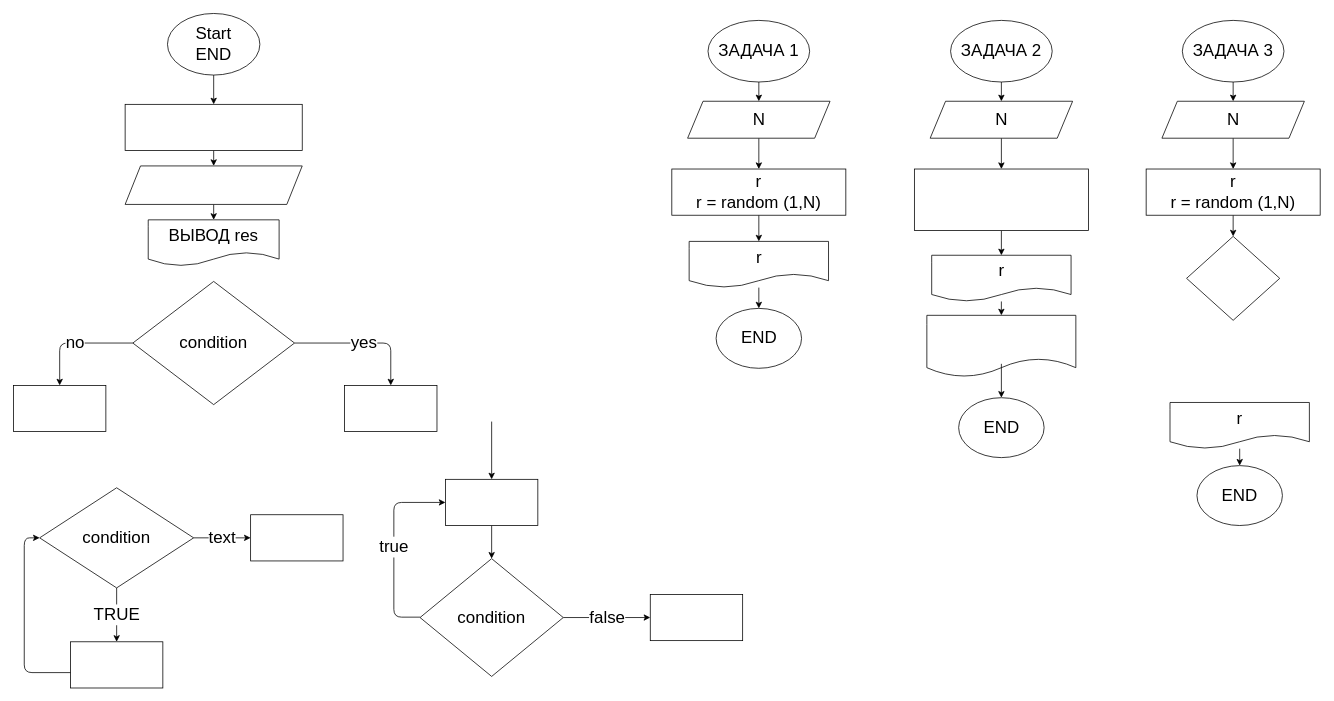
Image size: 1334x701. Some labels were removed from this diagram. Here are the shapes that lost their labels. From the top down, the centre of each, then its label:
(x=213, y=127): count = 0 res = 1* Sqrt(2)
(x=213, y=184): ВВОД count
(x=1001, y=199): r r = random (1,N) R = r * r
(x=1001, y=346): math.pow (r,2)
